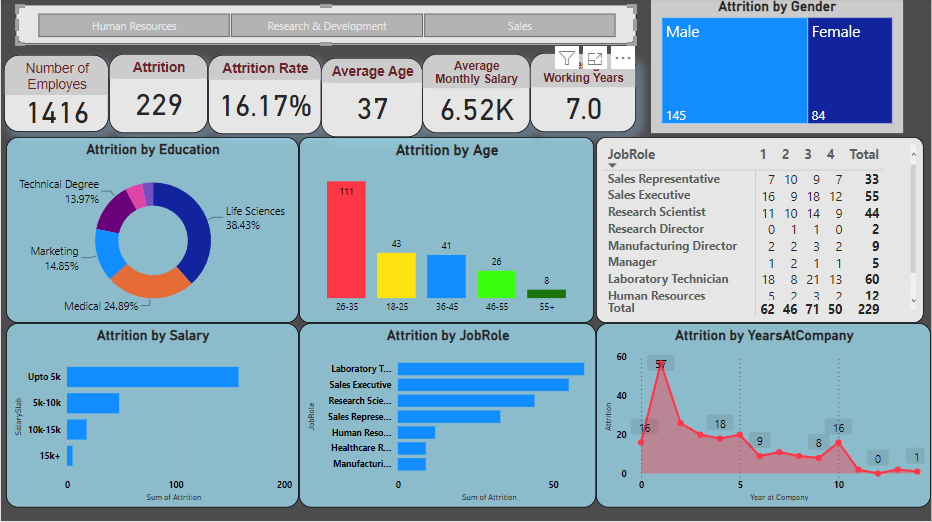

Layout of this report page (visuals, bound fields, positions):
{"tool":"powerbi","page":{"name":"Page 1","canvas":[1280,720],"ordinal":0},"visuals":[{"type":"card","title":"Number of Employes","fields":{"Values":["Sum(HR_Analytics_.EmployeeCount)"]},"box":[4.3,78.6,144.3,105.7],"z":0},{"type":"card","title":"Attrition","fields":{"Values":["Sum(HR_Analytics_.Attrition_)"]},"box":[148.6,77.1,135.7,108.6],"z":1000},{"type":"card","title":"Attrition Rate","fields":{"Values":["HR_Analytics_.Attrition_rate"]},"box":[284.3,78.6,155.7,108.6],"z":2000},{"type":"card","title":"Average Age","fields":{"Values":["Avg(HR_Analytics_.Age)"]},"box":[440,82.9,140,108.6],"z":3000},{"type":"card","title":"Average Monthly Salary","fields":{"Values":["Avg(HR_Analytics_.MonthlyIncome)"]},"box":[580,77.1,148.6,108.6],"z":4000},{"type":"card","title":"Average Working Years","fields":{"Values":["Avg(HR_Analytics_.YearsAtCompany)"]},"box":[728.6,75.7,145.7,108.6],"z":5000},{"type":"donutChart","title":"Attrition by Education","fields":{"Y":["Sum(HR_Analytics_.Attrition_)"],"Category":["HR_Analytics_.EducationField"]},"box":[7.1,191.4,402.9,255.7],"z":6000},{"type":"columnChart","title":"Attrition by Age","fields":{"Category":["HR_Analytics_.AgeGroup"],"Y":["Sum(HR_Analytics_.Attrition_)"]},"box":[410,191.4,405.7,255.7],"z":7000},{"type":"slicer","fields":{"Values":["HR_Analytics_.Department"]},"box":[20,10,854.3,54.3],"z":8000},{"type":"pivotTable","title":"Attrition by Education","fields":{"Values":["Sum(HR_Analytics_.Attrition_)"],"Rows":["HR_Analytics_.JobRole"],"Columns":["HR_Analytics_.JobSatisfaction"]},"box":[818.6,191.4,451.4,255.7],"z":9000},{"type":"barChart","title":"Attrition by Salary","fields":{"Y":["Sum(HR_Analytics_.Attrition_)"],"Category":["HR_Analytics_.SalarySlab"]},"box":[7.1,447.1,402.9,254.3],"z":10000},{"type":"barChart","title":"Attrition by JobRole","fields":{"Y":["Sum(HR_Analytics_.Attrition_)"],"Category":["HR_Analytics_.JobRole"]},"box":[410,447.1,408.6,254.3],"z":11000},{"type":"areaChart","title":"Attrition by YearsAtCompany","fields":{"Category":["HR_Analytics_.YearsAtCompany"],"Y":["Sum(HR_Analytics_.Attrition_)"]},"box":[818.6,447.1,461.4,254.3],"z":12000},{"type":"treemap","title":"Attrition by Gender","fields":{"Group":["HR_Analytics_.Gender"],"Values":["Sum(HR_Analytics_.Attrition_)"]},"box":[894.3,0,347.1,185.7],"z":13000}]}

Visuals, with their boxes in screenshot pixels (x1, y1, x2, y2), scaled from the page's 1280x720 canvas onto the 932x522 screenshot:
"Number of Employes" card: (3, 57, 108, 134)
"Attrition" card: (108, 56, 207, 135)
"Attrition Rate" card: (207, 57, 320, 136)
"Average Age" card: (320, 60, 422, 139)
"Average Monthly Salary" card: (422, 56, 531, 135)
"Average Working Years" card: (531, 55, 637, 134)
"Attrition by Education" donutChart: (5, 139, 299, 324)
"Attrition by Age" columnChart: (299, 139, 594, 324)
slicer - HR_Analytics_.Department: (15, 7, 637, 47)
"Attrition by Education" pivotTable: (596, 139, 925, 324)
"Attrition by Salary" barChart: (5, 324, 299, 509)
"Attrition by JobRole" barChart: (299, 324, 596, 509)
"Attrition by YearsAtCompany" areaChart: (596, 324, 931, 509)
"Attrition by Gender" treemap: (651, 0, 904, 135)
